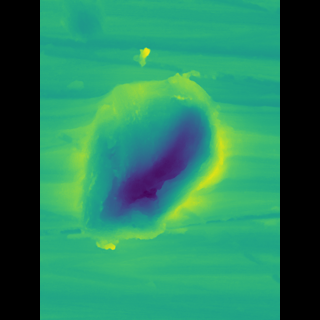Loch: (91, 64, 224, 261)
